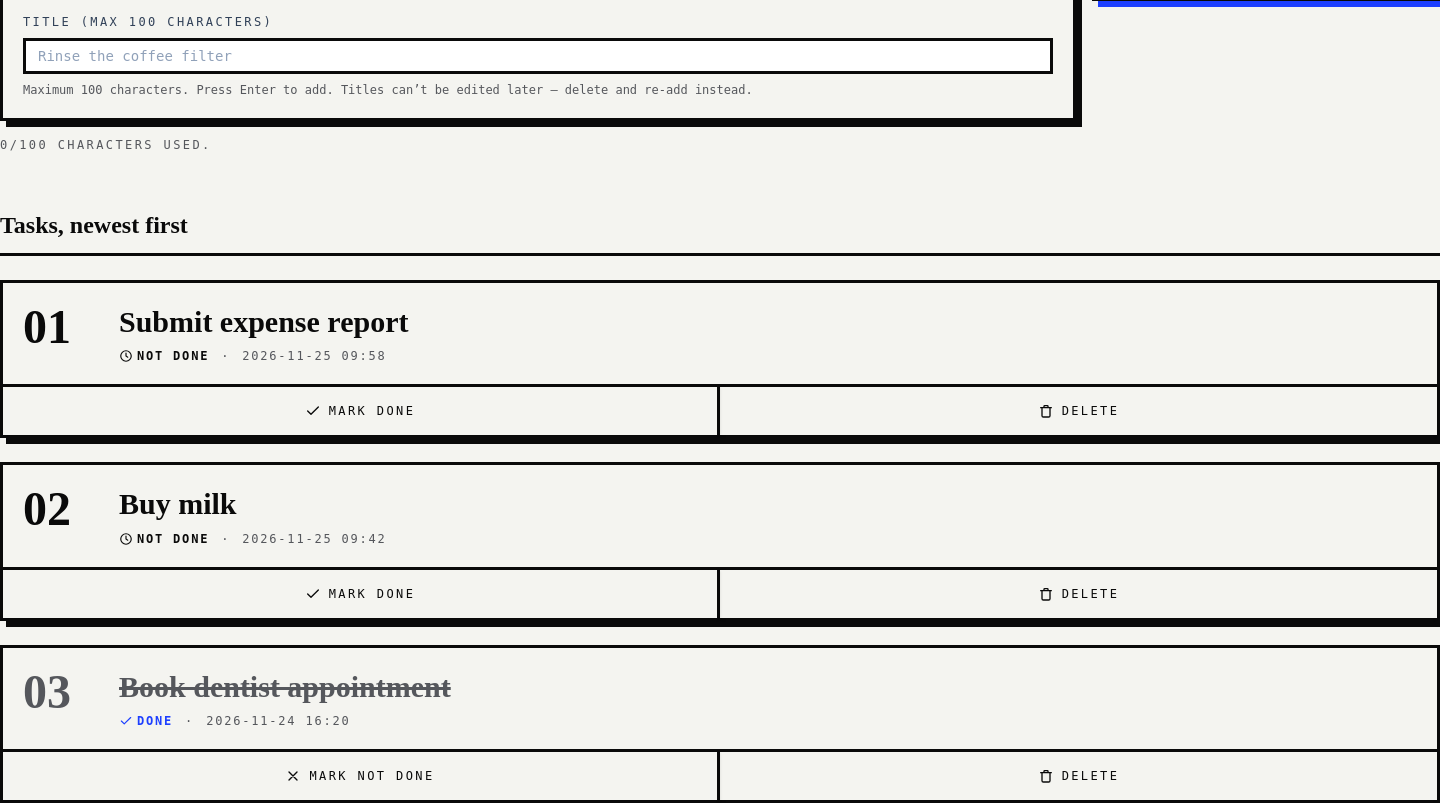
Test case: Tasks — delete a task after confirming › [AC-018] leaves the task on the list unchanged when the deletion is cancelled
The image size is (1440, 803).
(page scrolled)
Click the button with test id "delete-btn" at (1078, 594), box [720,570,1437,618]
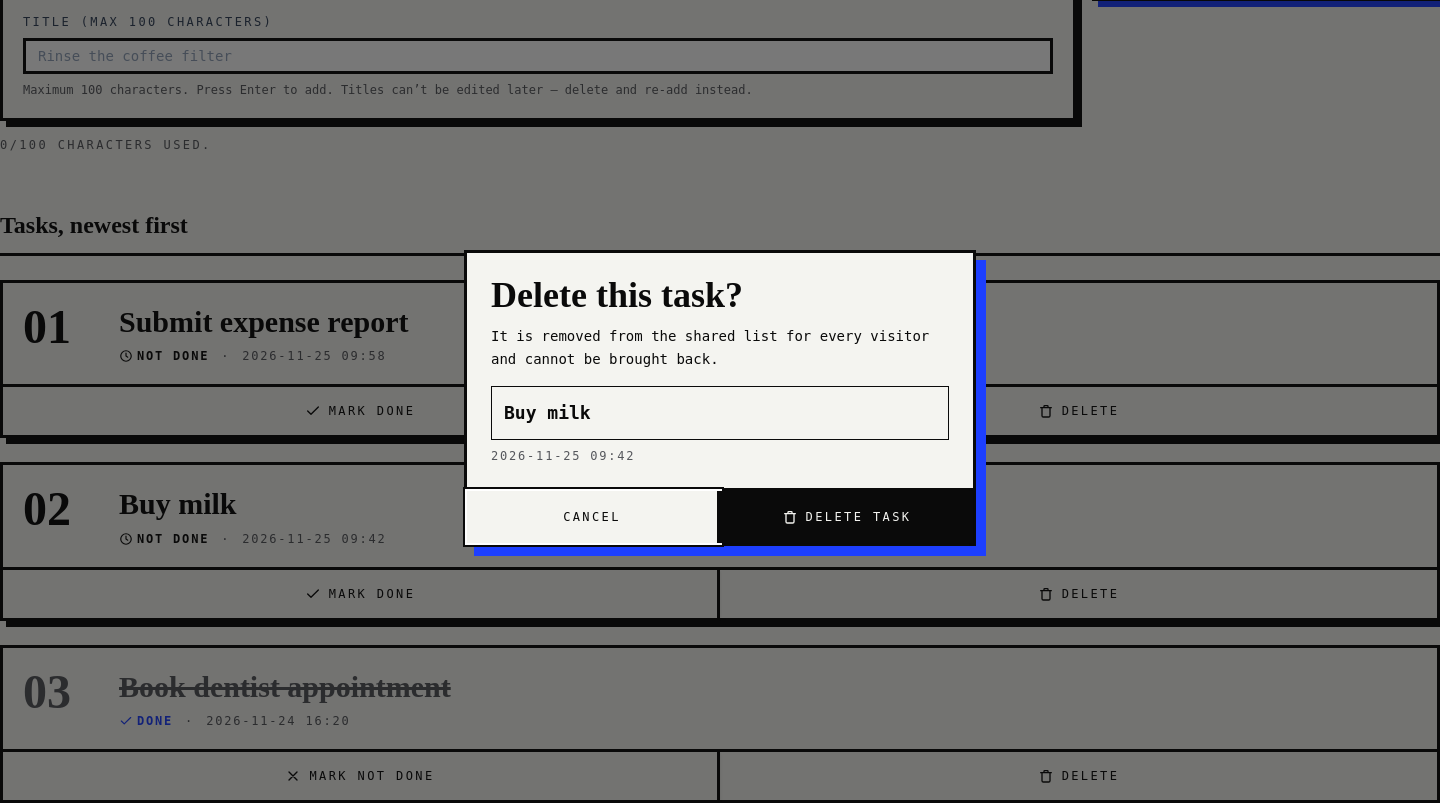
Click the button with test id "cancel-btn" at (594, 517), box [467,491,720,543]
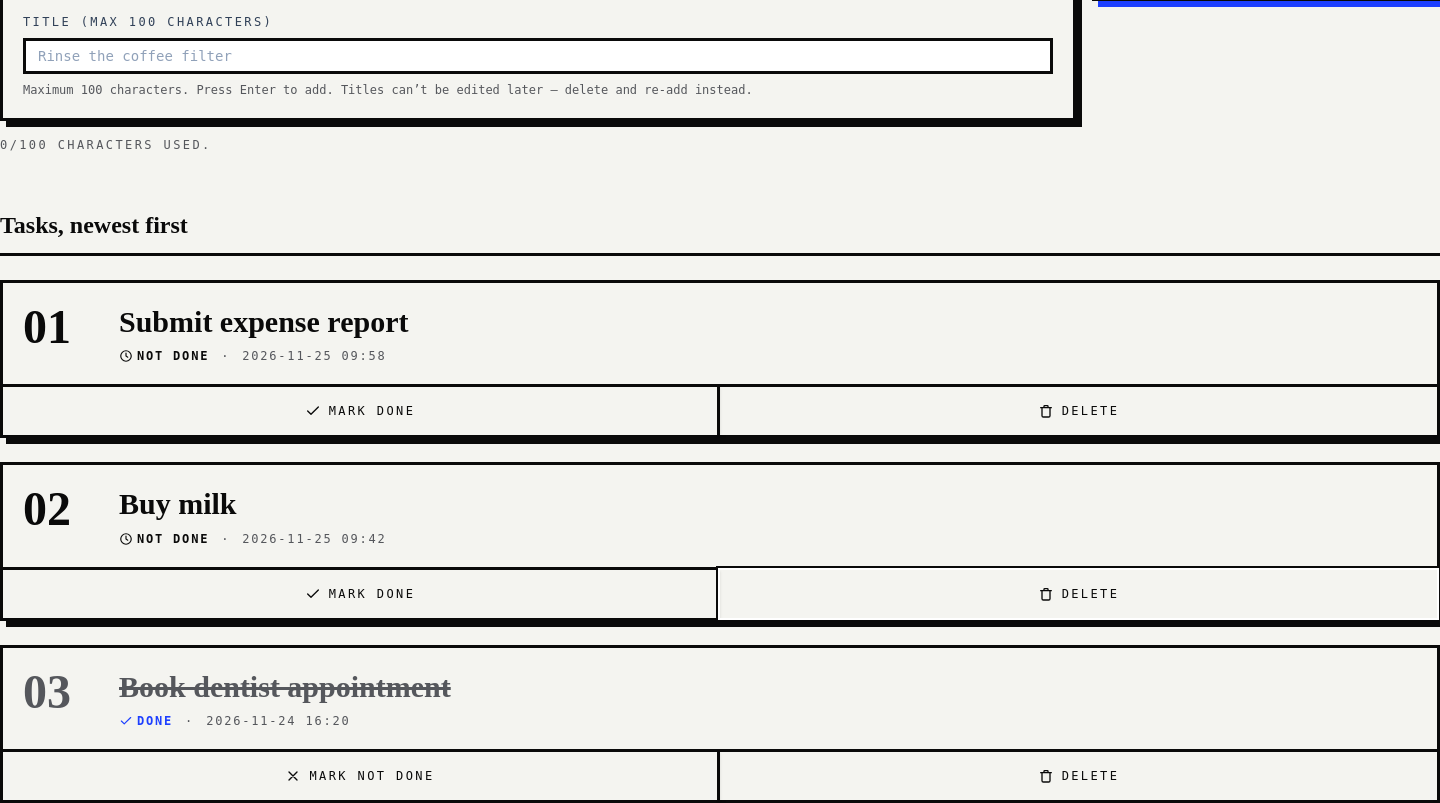
Check: the heading "Buy milk" is shown, box [119,487,236,520]
Check: the dialog with test id "delete-this-task-modal" is gone
